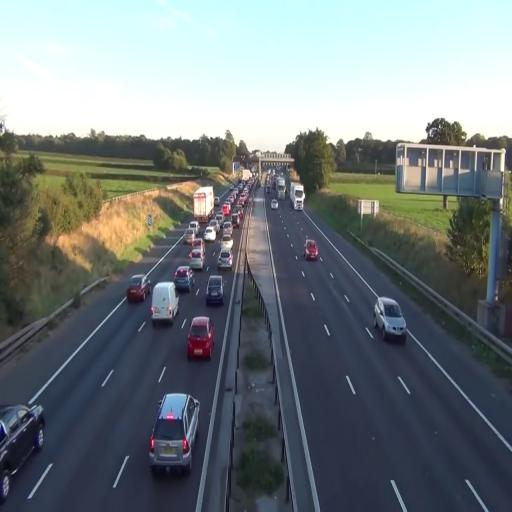vehicle: (0, 403, 45, 502), (149, 392, 201, 476), (375, 297, 407, 343), (186, 316, 215, 362), (151, 281, 179, 325), (192, 185, 214, 225), (126, 274, 148, 304), (206, 275, 224, 307), (174, 266, 193, 293), (290, 183, 306, 209), (304, 238, 320, 262), (218, 247, 232, 269)
